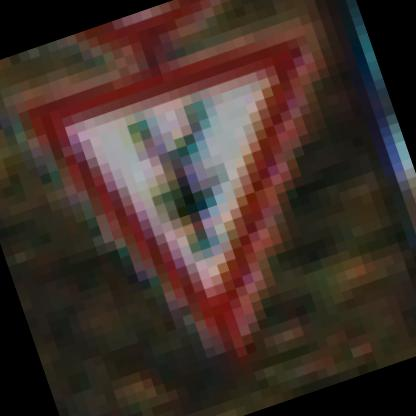crosswalk: (0, 0, 397, 395)
